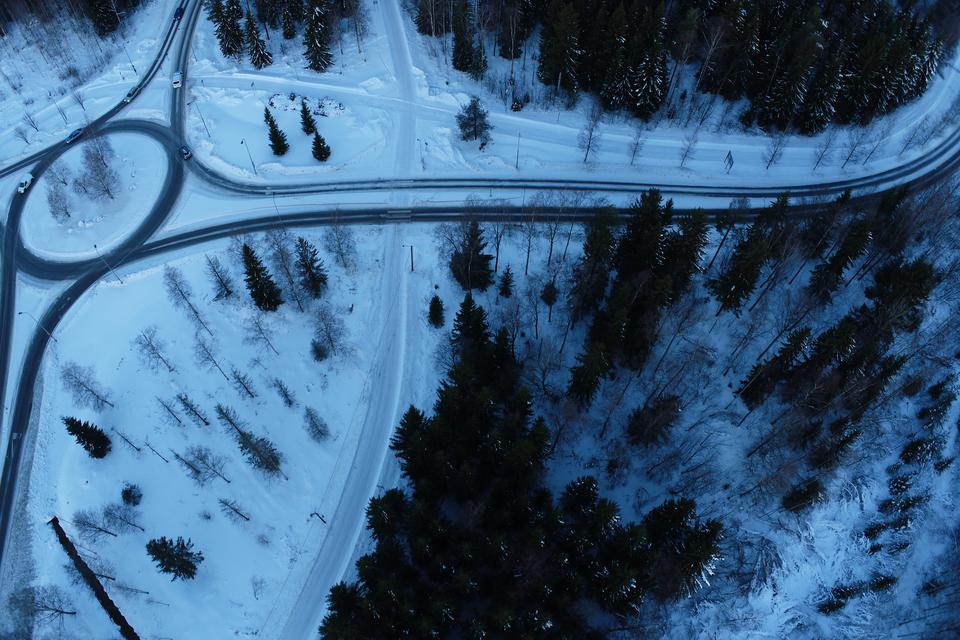intersection: (367, 158, 421, 236), (108, 59, 202, 97)
roundabout: (0, 100, 210, 312)
